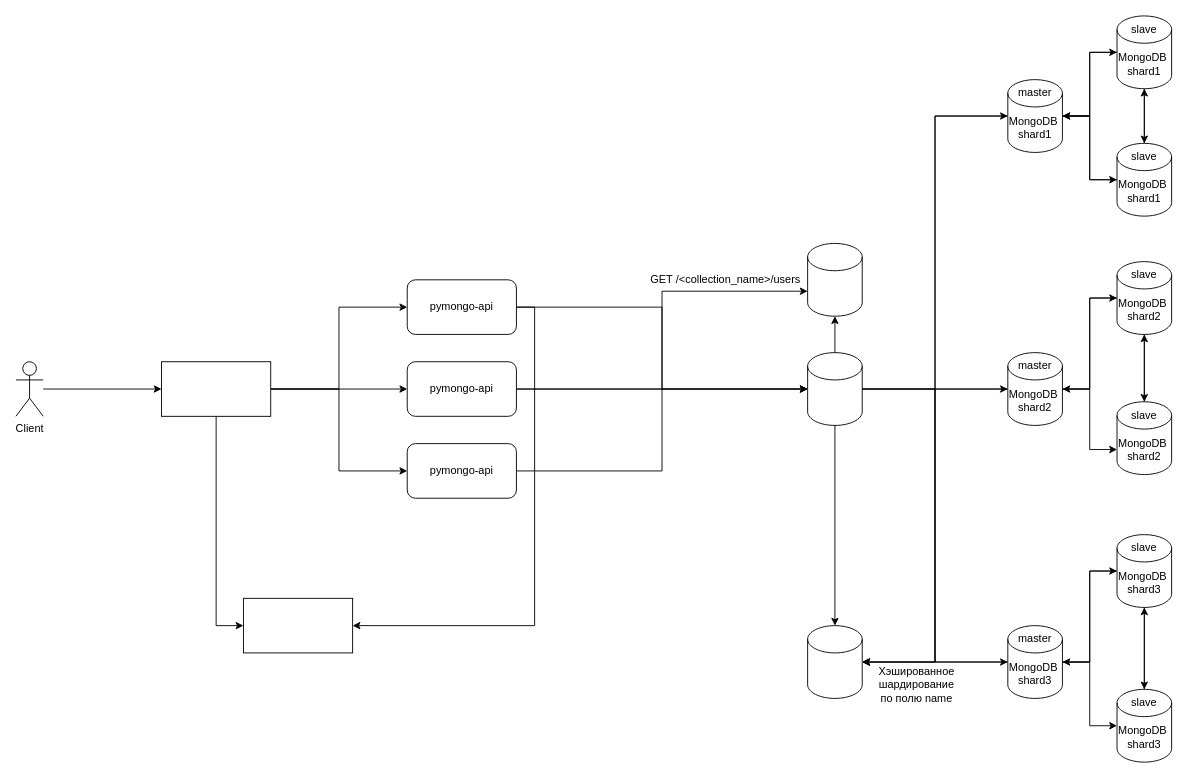
Some shapes in this 1188 by 778 pixel diagram are drawn without their labels. The centre of each missing label's shape, as x and y in pixels:
"API Gateway" goes at [216,388].
"MongoDB config" goes at [834,661].
"MongoDB Router" goes at [834,388].
"Redis" goes at [834,279].
"Service registry" goes at [298,625].
